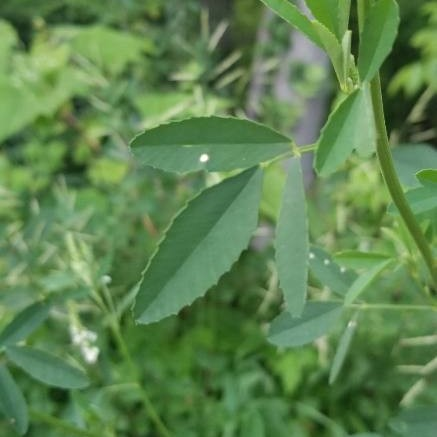obstacle: (112, 48, 411, 366)
